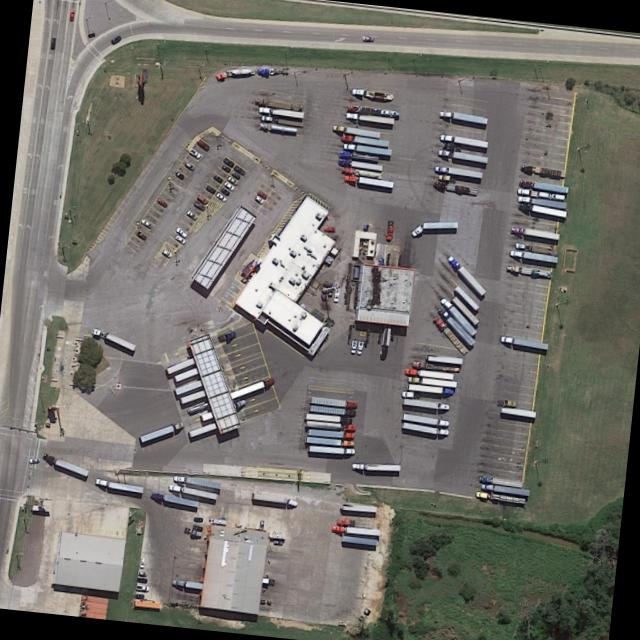large-vehicle: (445, 253, 485, 295), (430, 314, 467, 354), (436, 306, 474, 344), (438, 296, 476, 334), (406, 216, 458, 237), (41, 453, 87, 476), (200, 396, 244, 420), (228, 375, 273, 398), (91, 327, 135, 349), (139, 420, 182, 441), (166, 483, 216, 498), (517, 201, 566, 216), (438, 108, 487, 123), (437, 147, 486, 162), (342, 173, 392, 187), (165, 353, 200, 373), (518, 178, 567, 192), (346, 103, 398, 116), (499, 334, 547, 348), (433, 163, 481, 177), (331, 123, 379, 137), (94, 478, 142, 492), (252, 490, 296, 505), (401, 420, 448, 434), (150, 491, 197, 505), (406, 374, 456, 387), (173, 375, 207, 394), (214, 64, 254, 80), (173, 361, 205, 381), (479, 481, 528, 494), (509, 225, 558, 238), (515, 186, 564, 199), (505, 263, 550, 277), (254, 96, 302, 109), (411, 358, 459, 371), (400, 412, 448, 425), (517, 194, 565, 207), (438, 133, 486, 146), (172, 474, 220, 487), (473, 490, 525, 502), (432, 180, 476, 194), (337, 156, 381, 170), (187, 418, 221, 436), (178, 385, 211, 403), (508, 249, 557, 261), (341, 142, 390, 154), (344, 111, 393, 123), (339, 133, 387, 145), (520, 163, 564, 176), (257, 105, 303, 117), (403, 396, 449, 408), (402, 367, 452, 378), (477, 474, 521, 486), (304, 419, 355, 429), (308, 404, 354, 415), (260, 113, 302, 125), (336, 149, 378, 161), (406, 383, 454, 393), (304, 435, 352, 445), (340, 165, 380, 177), (330, 524, 378, 534), (350, 87, 392, 98), (512, 241, 554, 252), (309, 395, 355, 405), (304, 412, 349, 422), (307, 444, 354, 453), (307, 428, 354, 437), (258, 121, 296, 131), (380, 323, 391, 357), (426, 353, 461, 363), (349, 462, 399, 469), (171, 578, 202, 588), (256, 66, 287, 74), (248, 575, 273, 583), (206, 515, 226, 523)
small-vehicle: (194, 137, 209, 150), (185, 146, 200, 158), (138, 216, 152, 228), (173, 224, 187, 236), (183, 208, 197, 220), (221, 155, 234, 167), (191, 199, 204, 211), (195, 192, 208, 204), (225, 173, 237, 186), (232, 162, 244, 175), (182, 159, 194, 171), (173, 232, 185, 244), (154, 196, 167, 207), (108, 33, 121, 44), (221, 179, 233, 190), (214, 189, 225, 201), (203, 183, 215, 194), (134, 229, 146, 240), (252, 192, 263, 204), (218, 185, 229, 196), (211, 172, 222, 183), (160, 247, 171, 257), (255, 188, 266, 198), (188, 527, 200, 536), (137, 554, 145, 567), (134, 582, 147, 590), (229, 168, 239, 178), (220, 163, 230, 173), (27, 455, 39, 463), (361, 33, 373, 41), (134, 575, 146, 582), (257, 517, 264, 529), (49, 36, 55, 49), (321, 225, 334, 231), (67, 8, 73, 20), (191, 523, 201, 530), (135, 569, 145, 576), (272, 538, 282, 544), (192, 515, 202, 521), (133, 592, 143, 598)
